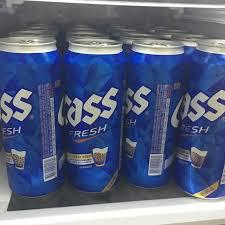beer: (1, 22, 223, 201)
